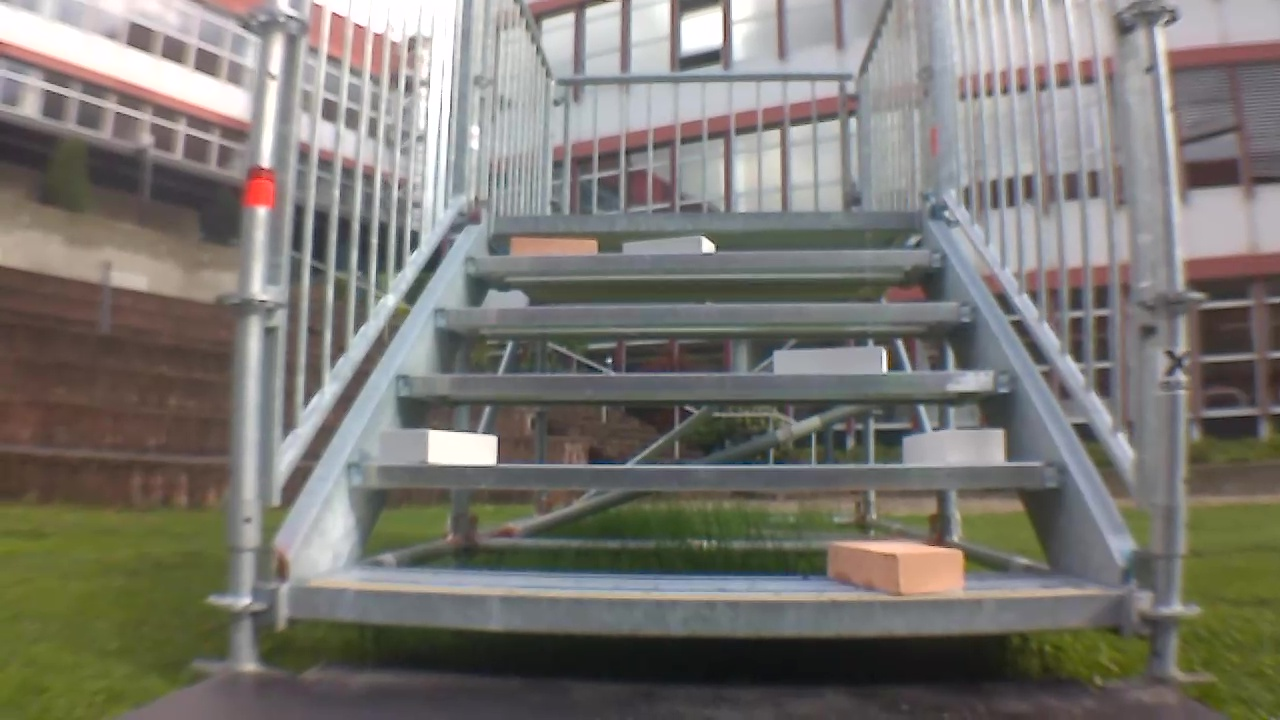brick: (829, 540, 964, 594), (380, 428, 496, 464), (903, 430, 1004, 463), (775, 346, 886, 375), (511, 237, 595, 255), (623, 237, 714, 252)
edge: (287, 586, 1124, 635), (393, 370, 1011, 399), (344, 463, 1060, 487), (432, 302, 975, 324), (465, 249, 945, 270), (497, 211, 917, 230)
stairs: (210, 1, 1207, 675)
steps: (283, 207, 1127, 644)
